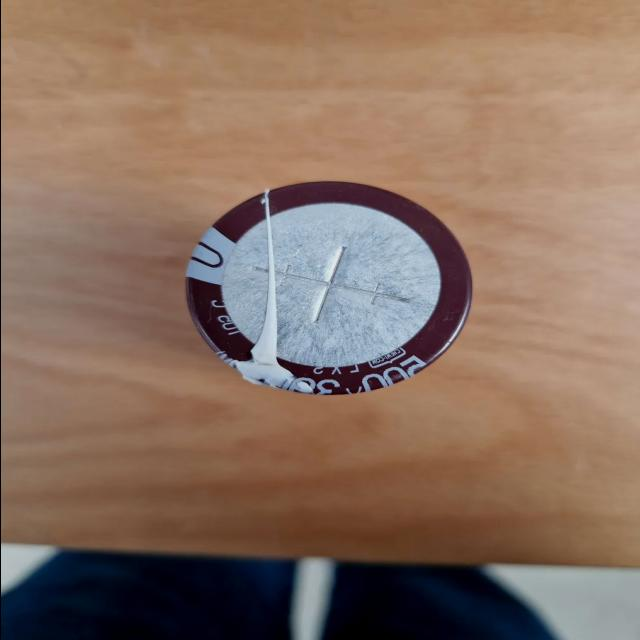C: (184, 182, 470, 394)
